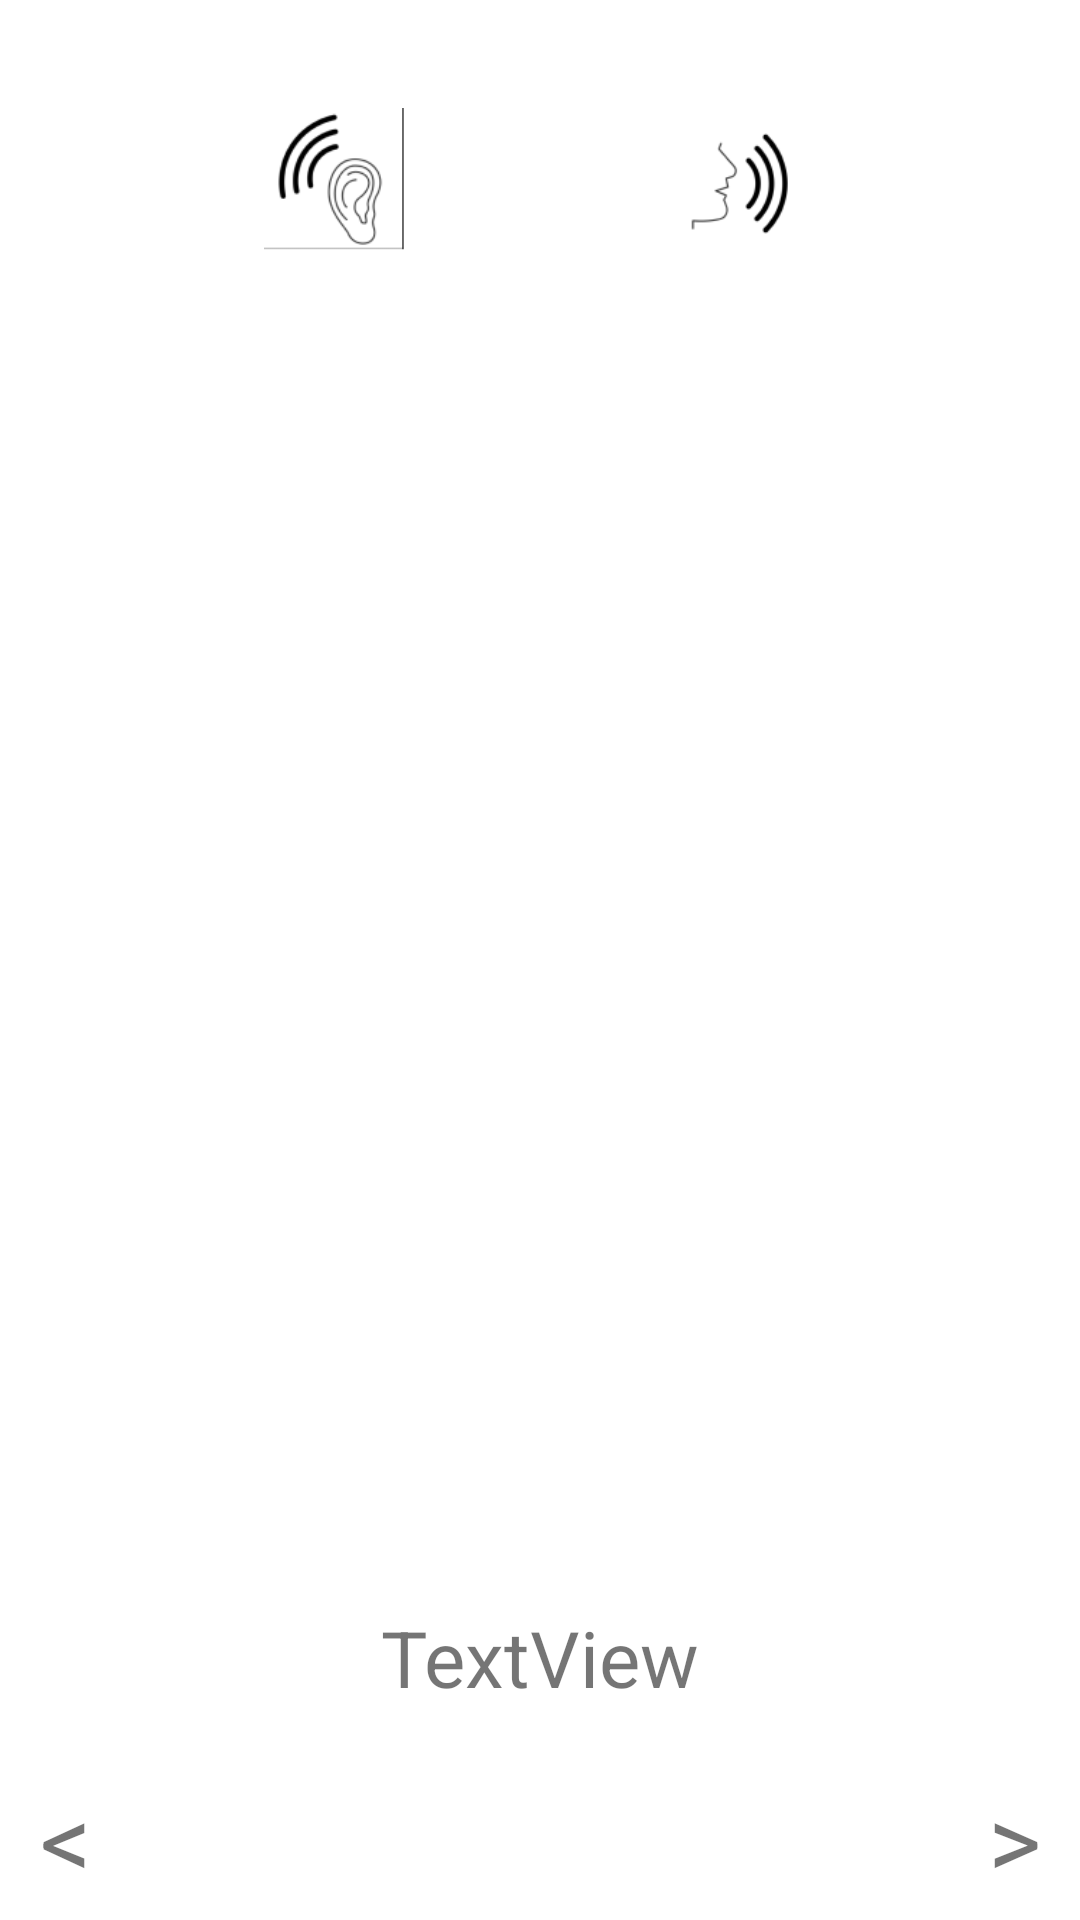

Locate icon controls on the screen. Image size 1080x1920, boxes as (x1, y1, x2, y2).
listen: (264, 108, 404, 250)
speak: (691, 133, 788, 234)
